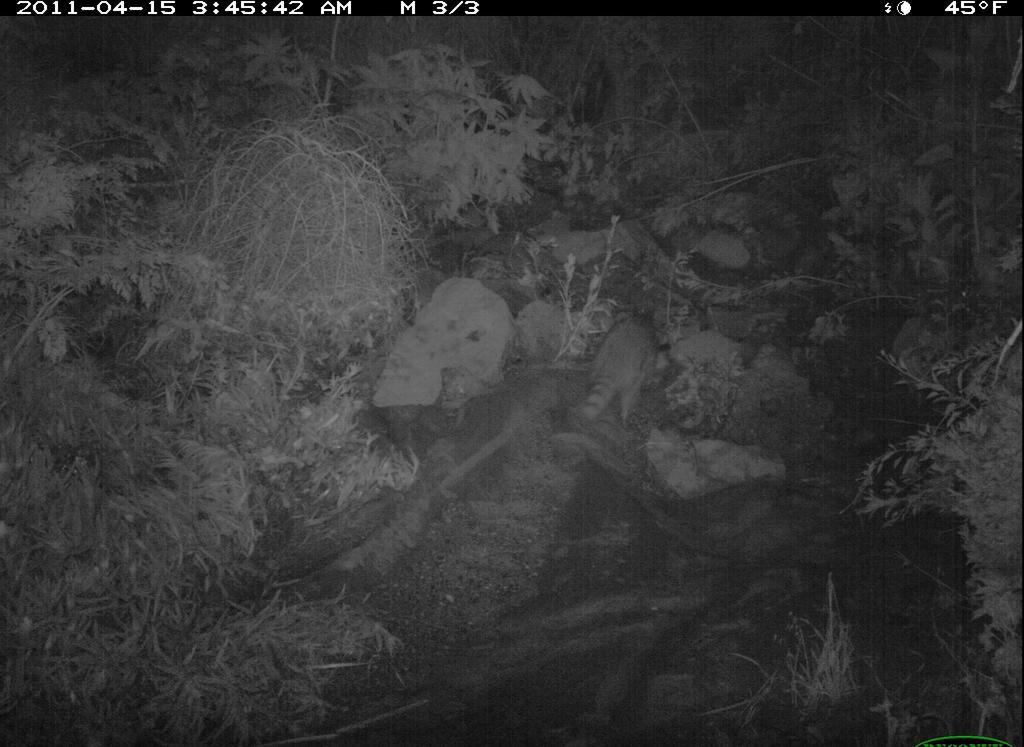raccoon: (562, 300, 673, 442)
